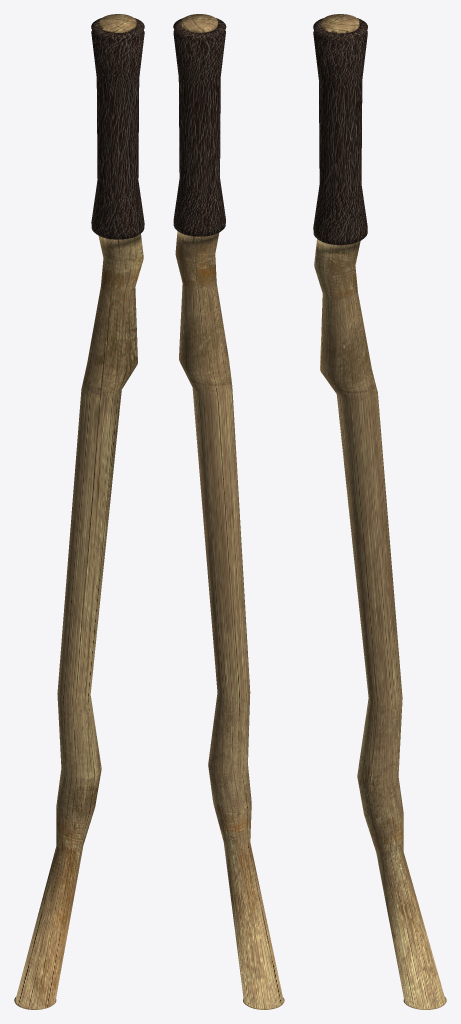
File: hikingstick3.dae
3 views of the same model, side by side, from view 1: azimuth 90°, elevation 25°; view 2: azimuth 210°, elevation 25°; view 3: azimuth 270°, elevation 25° (orthographic). The views are drawn at different scales.
Visible parts, largest first — view 1: Hiking_Stick; view 2: Hiking_Stick; view 3: Hiking_Stick.
Boxes of the visible parts, x1,y1,x2,y2 form: Hiking_Stick: (14, 14, 144, 1009); Hiking_Stick: (173, 14, 284, 1009); Hiking_Stick: (313, 14, 446, 1009).
Size of the model in its own units: 0.229 by 0.3981 by 3.26.
Materials: 1 (1 with a texture image).
